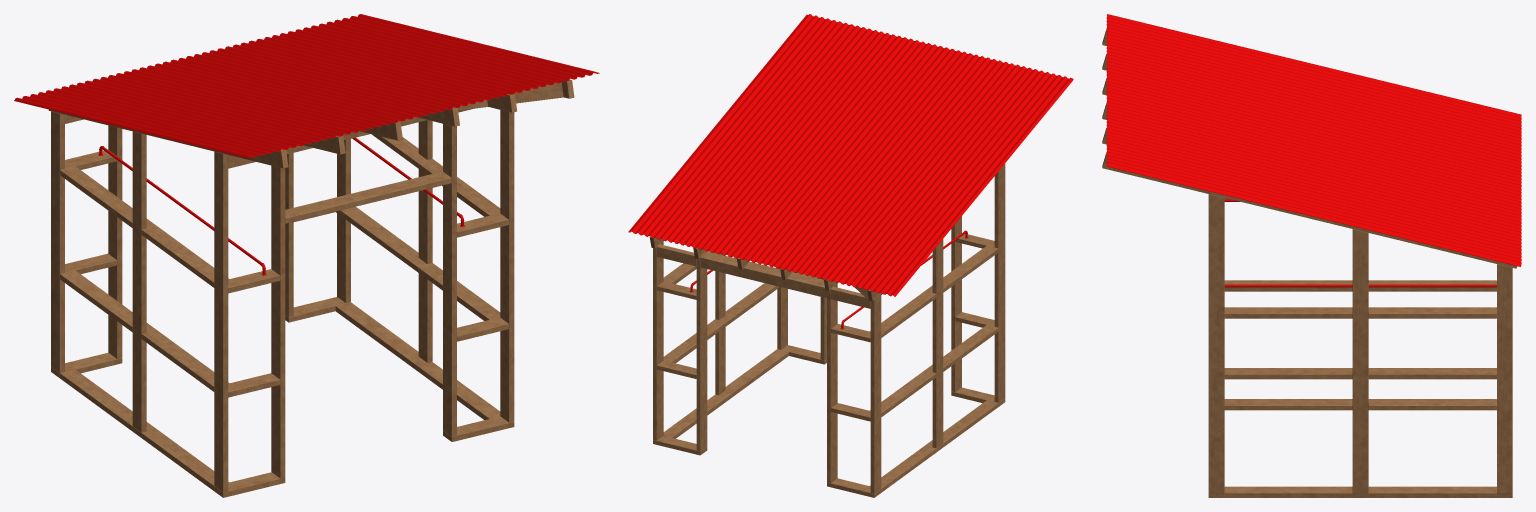
File: WoodenHut.fbx
3 renders of one model, left to right at view 1: azimuth 30°, elevation 25°; view 2: azimuth 150°, elevation 25°; view 3: azimuth 270°, elevation 25°, orthographic. The views are drawn at different scales.
Visible parts, largest first — view 1: WoodenHut; view 2: WoodenHut; view 3: WoodenHut.
Boxes of the visible parts, x1,y1,x2,y2 form: WoodenHut: (14,14,599,497); WoodenHut: (628,14,1073,497); WoodenHut: (1102,14,1521,497).
Size of the model in its own units: 343 by 365 by 402.
